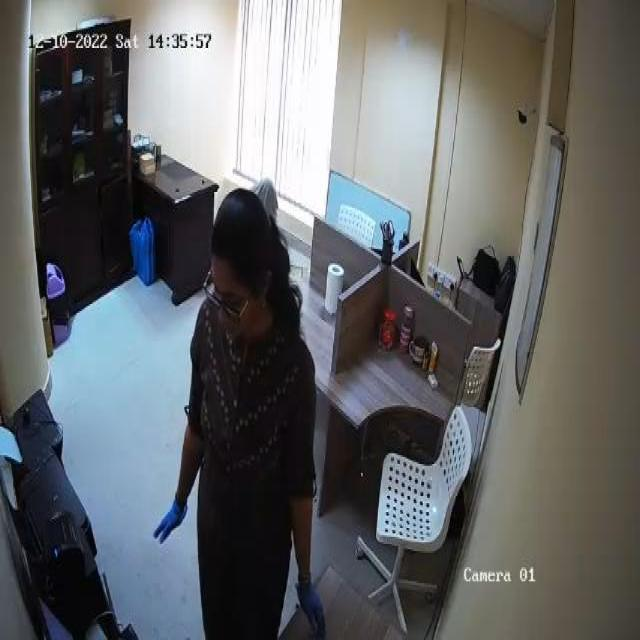gloved_hand: (151, 491, 189, 553), (292, 580, 330, 638)
